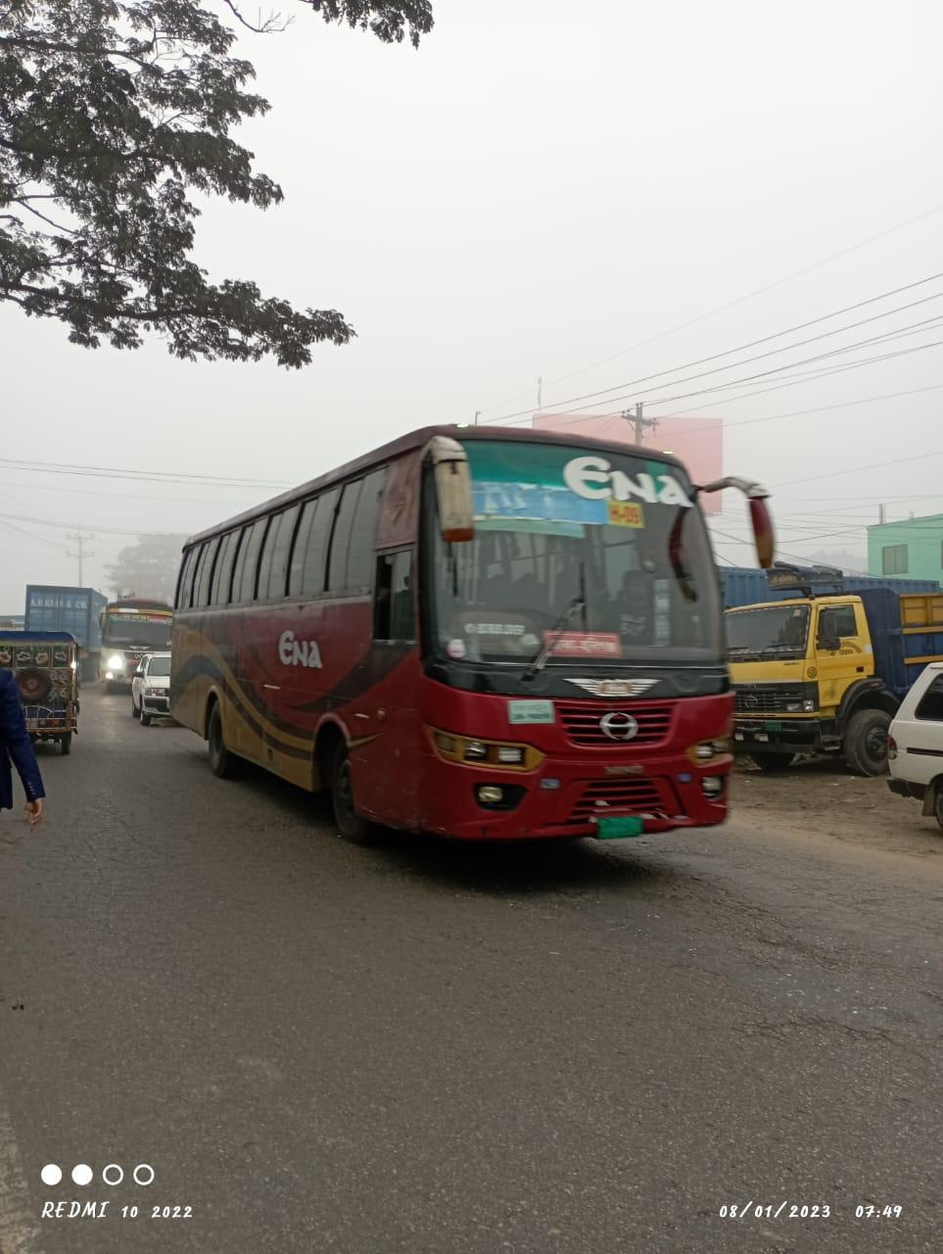Bus: (150, 399, 778, 863), (99, 587, 169, 695)
Car: (1, 614, 94, 772), (873, 653, 943, 822)
Truck: (738, 580, 894, 765)
